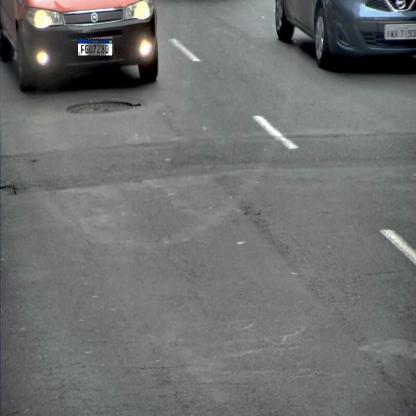PlacaM: (77, 39, 113, 56)
